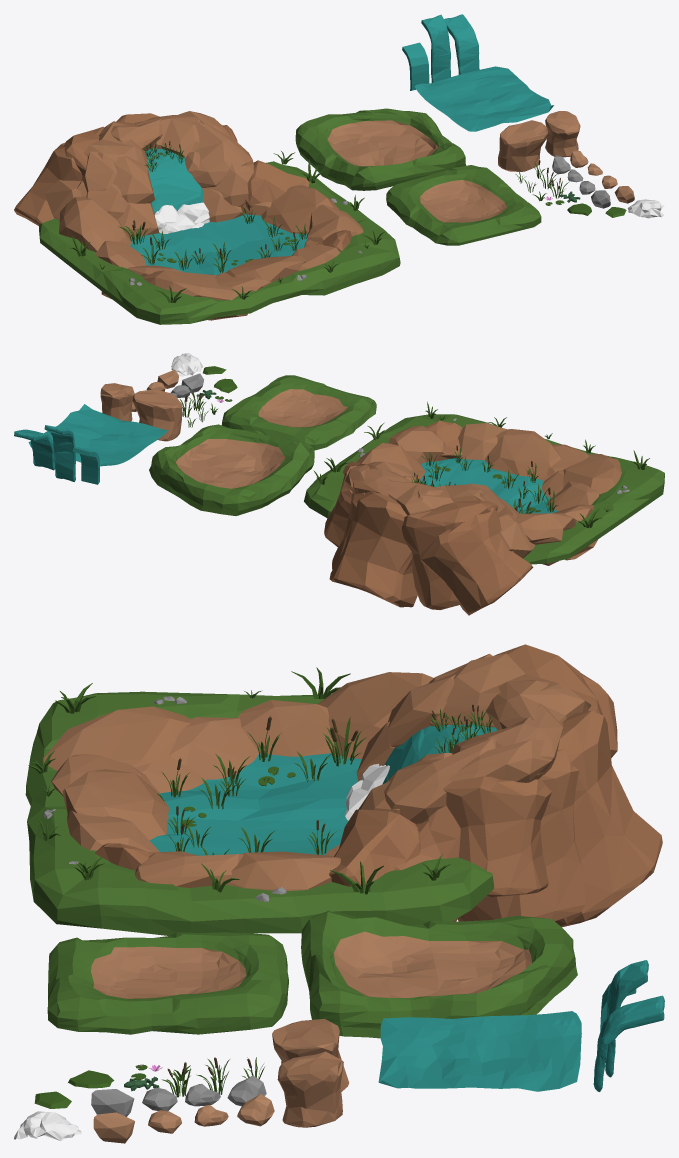
The model's file is free_lowpoly_small_pond_asset_pack.glb.
3 views of the same model, one above another, from view 1: azimuth 30°, elevation 25°; view 2: azimuth 150°, elevation 25°; view 3: azimuth 270°, elevation 25° (orthographic). The views are drawn at different scales.
Visible parts, largest first — view 1: Waterfall_Foam_Icosphere.087, Waterfall_Foam_Icosphere.457, Waterfall_Foam_Icosphere.456, Waterfall_Foam_Icosphere.007, Waterfall_Foam_Icosphere.008, Waterfall_Foam_Icosphere.009, Waterfall_Foam_Icosphere.006, Waterfall_Foam_Icosphere.005, Waterfall_Foam_Icosphere.004, Waterfall_Foam_Icosphere.002; view 2: Waterfall_Foam_Icosphere.087, Waterfall_Foam_Icosphere.457, Waterfall_Foam_Icosphere.456, Waterfall_Foam_Icosphere.007, Waterfall_Foam_Icosphere.008, Waterfall_Foam_Icosphere.005, Waterfall_Foam_Icosphere.009, Waterfall_Foam_Icosphere.006, Waterfall_Foam_Icosphere.004, Waterfall_Foam_Icosphere.002; view 3: Waterfall_Foam_Icosphere.087, Waterfall_Foam_Icosphere.457, Waterfall_Foam_Icosphere.456, Waterfall_Foam_Icosphere.007, Waterfall_Foam_Icosphere.009, Waterfall_Foam_Icosphere.008, Waterfall_Foam_Icosphere.006, Waterfall_Foam_Icosphere.005, Waterfall_Foam_Icosphere.002, Waterfall_Foam_Icosphere.001, Waterfall_Foam_Icosphere.003, Waterfall_Foam_Icosphere.011 (+1 smaller).
Boxes of the visible parts, x1,y1,x2,y2 form: Waterfall_Foam_Icosphere.087: (14,111,400,324); Waterfall_Foam_Icosphere.457: (295,108,466,190); Waterfall_Foam_Icosphere.456: (386,165,541,245); Waterfall_Foam_Icosphere.007: (415,66,553,131); Waterfall_Foam_Icosphere.008: (498,120,547,171); Waterfall_Foam_Icosphere.009: (545,111,580,157); Waterfall_Foam_Icosphere.006: (444,14,479,74); Waterfall_Foam_Icosphere.005: (421,14,450,82); Waterfall_Foam_Icosphere.004: (402,42,429,90); Waterfall_Foam_Icosphere.002: (627,199,664,218); Waterfall_Foam_Icosphere.087: (304,401,664,615); Waterfall_Foam_Icosphere.457: (149,424,314,515); Waterfall_Foam_Icosphere.456: (221,375,376,450); Waterfall_Foam_Icosphere.007: (28,404,168,466); Waterfall_Foam_Icosphere.008: (132,389,182,441); Waterfall_Foam_Icosphere.005: (44,425,75,481); Waterfall_Foam_Icosphere.009: (100,383,134,421); Waterfall_Foam_Icosphere.006: (14,429,54,470); Waterfall_Foam_Icosphere.004: (72,447,99,484); Waterfall_Foam_Icosphere.002: (171,353,202,376); Waterfall_Foam_Icosphere.087: (25,644,662,935); Waterfall_Foam_Icosphere.457: (301,910,577,1038); Waterfall_Foam_Icosphere.456: (47,932,288,1034); Waterfall_Foam_Icosphere.007: (378,1011,581,1091); Waterfall_Foam_Icosphere.009: (277,1051,343,1127); Waterfall_Foam_Icosphere.008: (272,1018,349,1091); Waterfall_Foam_Icosphere.006: (593,995,664,1091); Waterfall_Foam_Icosphere.005: (605,960,648,1077); Waterfall_Foam_Icosphere.002: (14,1111,81,1140); Waterfall_Foam_Icosphere.001: (93,1112,134,1143); Waterfall_Foam_Icosphere.003: (91,1089,134,1116); Waterfall_Foam_Icosphere.011: (237,1094,274,1126).
Size of the model in its own units: 50.14 by 12.02 by 32.05.
1 material, 1 textured.
